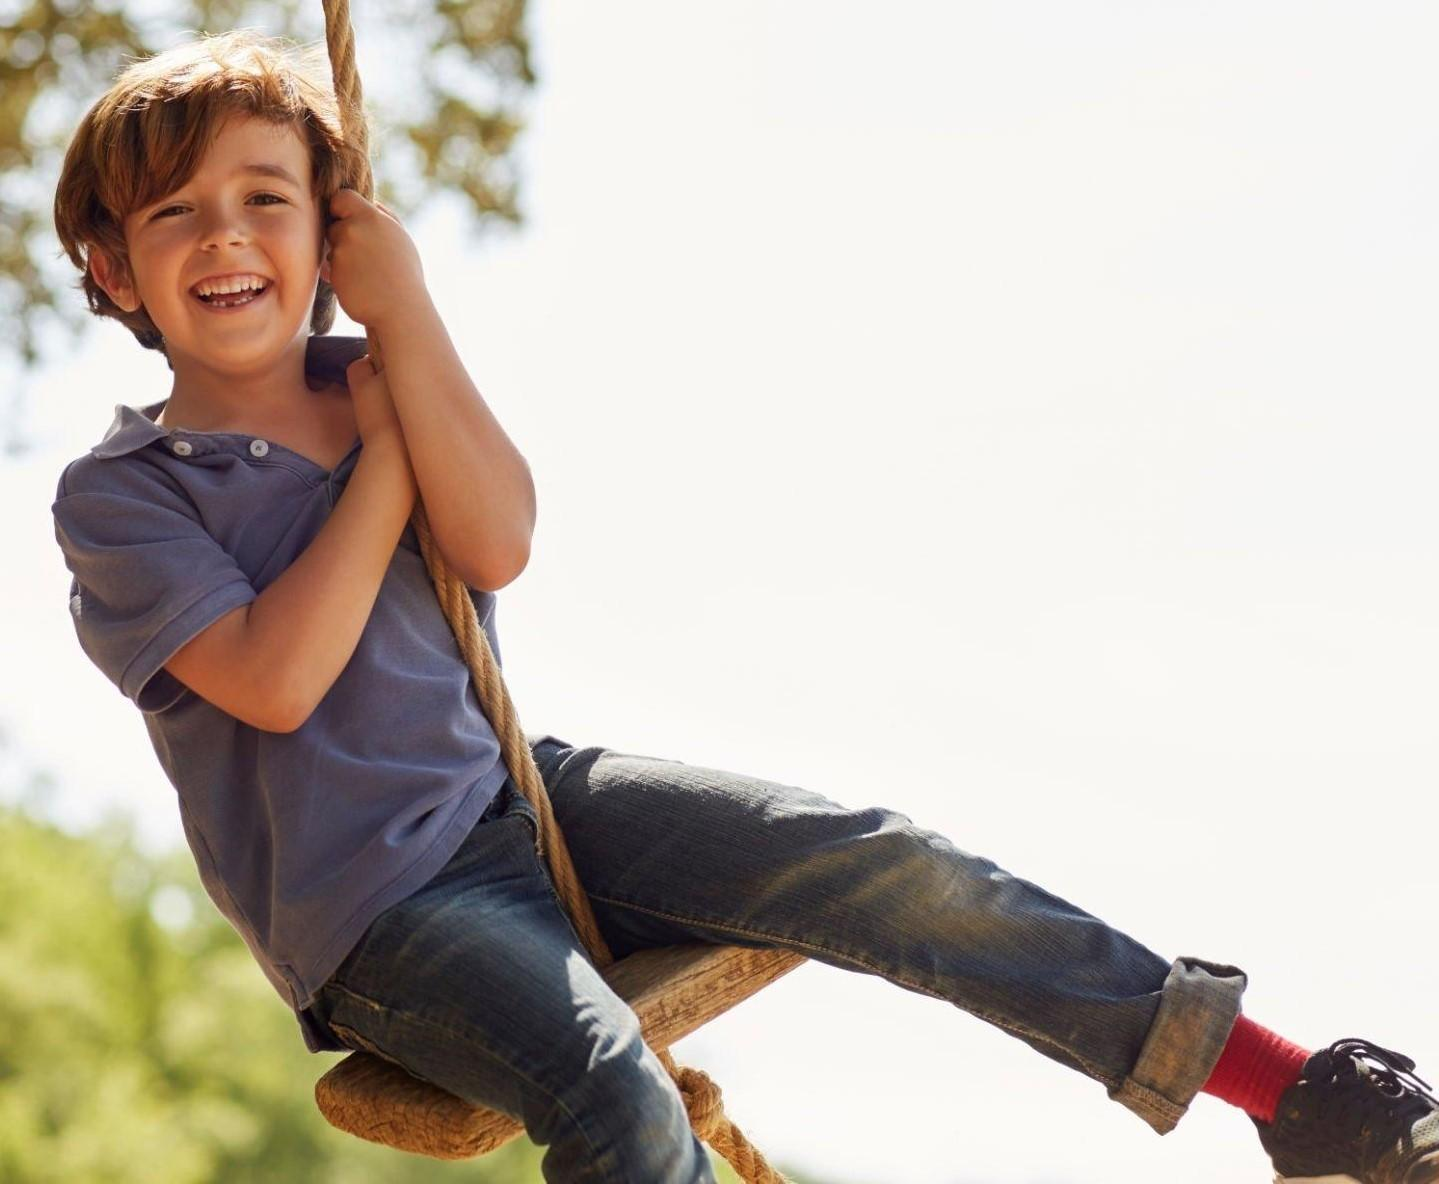Healthy: (79, 75, 356, 374)
